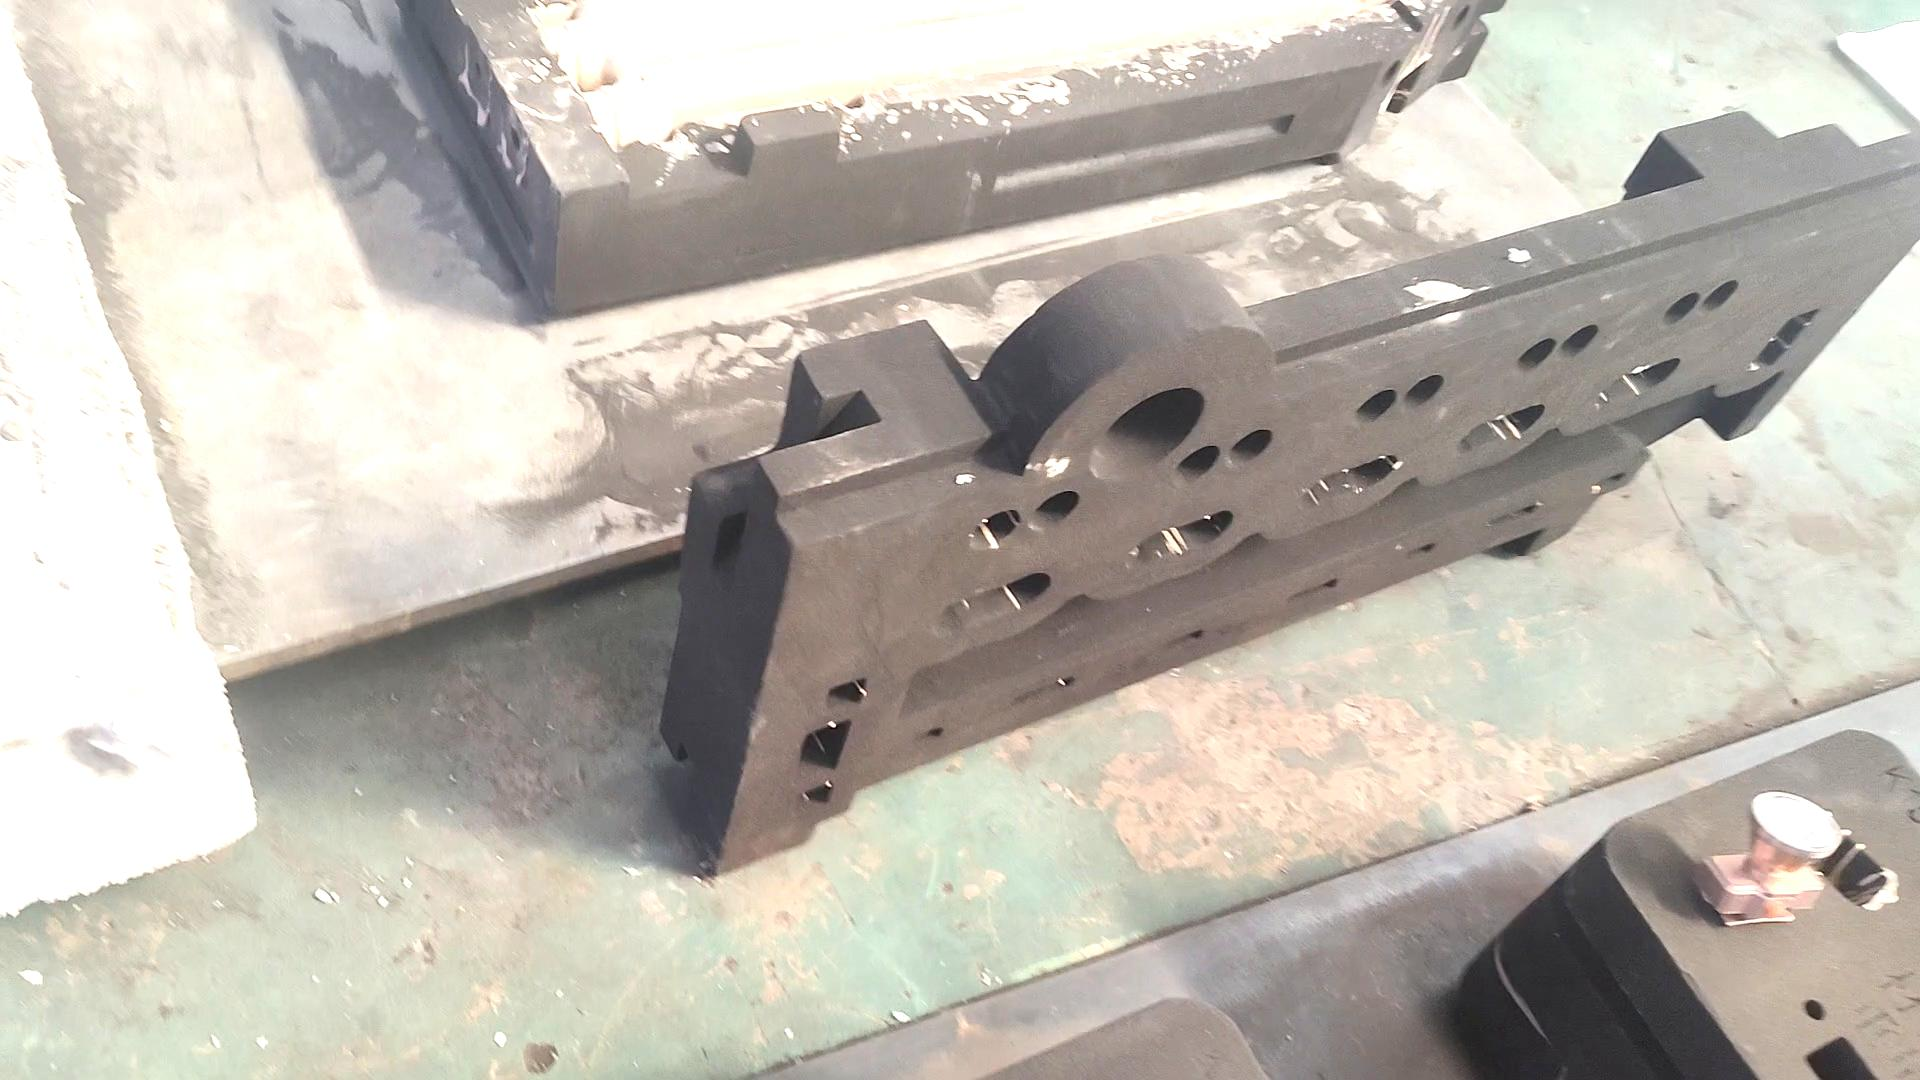pouring hole: (1087, 386, 1205, 480)
